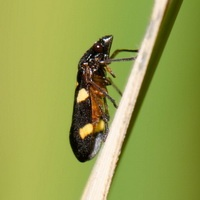insect: (70, 35, 137, 161)
